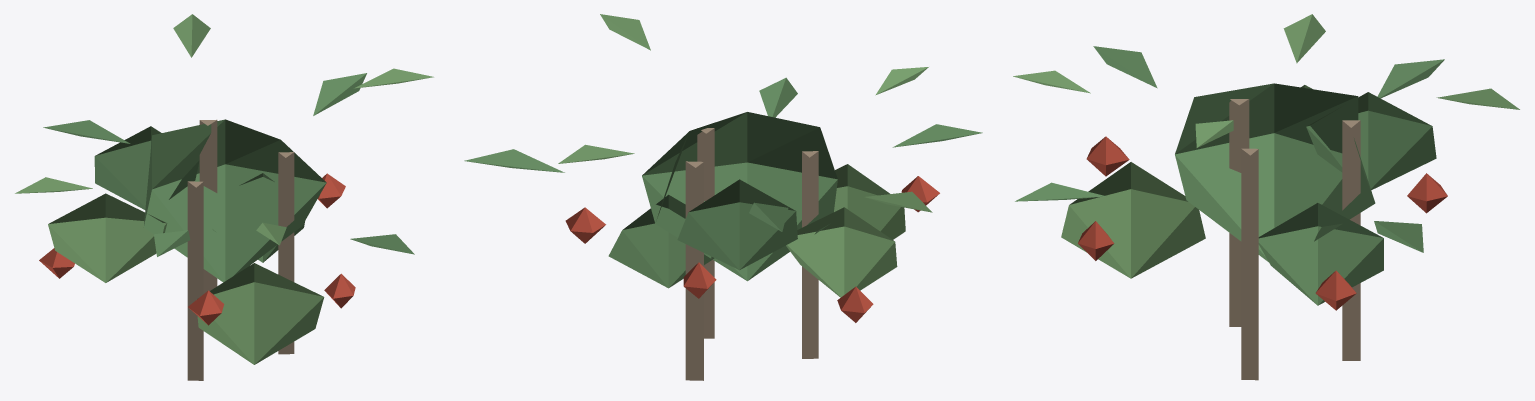
The model's file is guan.fusang@fruiting__summer.glb.
3 renders of one model, left to right at view 1: azimuth 30°, elevation 25°; view 2: azimuth 150°, elevation 25°; view 3: azimuth 270°, elevation 25°, orthographic. The views are drawn at different scales.
Parts seen in each view (by area): view 1: guan.fusang@fruiting__summer; view 2: guan.fusang@fruiting__summer; view 3: guan.fusang@fruiting__summer.
Boxes of the visible parts, x1,y1,x2,y2 form: guan.fusang@fruiting__summer: (15,14,433,380); guan.fusang@fruiting__summer: (464,14,982,380); guan.fusang@fruiting__summer: (1013,14,1519,380).
Bounding box in the file's own units: 3.57 × 2.28 × 3.42.
